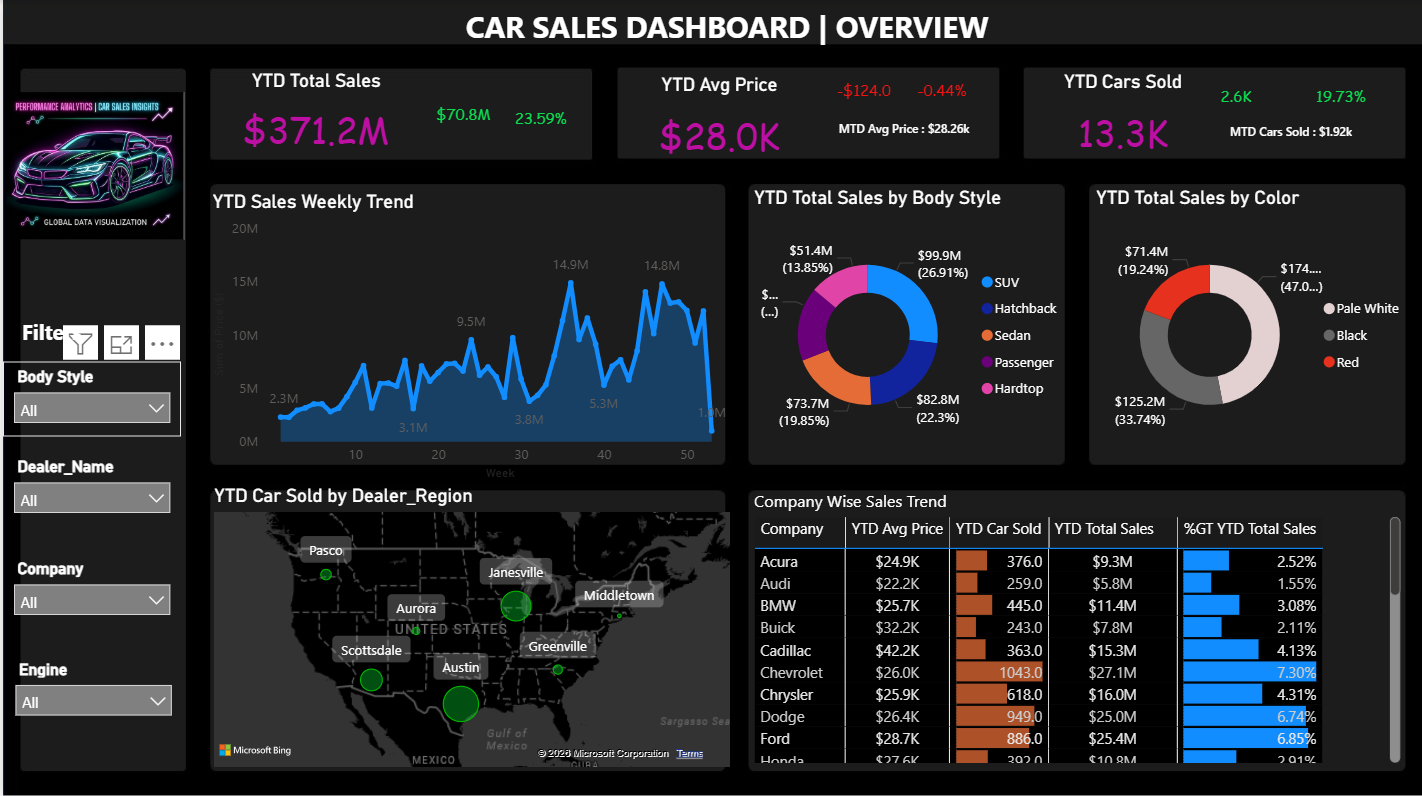

The dashboard page shown, as its layout file describes it:
{"tool":"powerbi","page":{"name":"Overview","canvas":[1280,720],"ordinal":0},"visuals":[{"type":"cardVisual","title":"YTD Total Sales","fields":{"Data":["car_data.YTD Total Sales"]},"box":[183.2,62.1,196.8,87.8],"z":0},{"type":"cardVisual","fields":{"Data":["car_data.Sales Diff"]},"box":[357.4,68.1,116.6,68.1],"z":1000},{"type":"cardVisual","fields":{"Data":["car_data.YOY Sales Growth"]},"box":[428.5,62.1,112.1,86.3],"z":2000},{"type":"cardVisual","title":"YTD Avg Price","fields":{"Data":["car_data.YTD Avg Price"]},"box":[543.6,66.6,204.4,89.3],"z":3000},{"type":"cardVisual","fields":{"Data":["car_data.AVG Price Diff"]},"box":[717.7,45.4,116.6,68.1],"z":4000},{"type":"cardVisual","fields":{"Data":["car_data.YOY Avg Price Growth"]},"box":[787.4,45.4,116.6,68.1],"z":5000},{"type":"cardVisual","fields":{"Data":["car_data.MTD Avg Price KPI"]},"box":[719.2,84.8,186.2,59.1],"z":6000},{"type":"cardVisual","title":"YTD Cars Sold ","fields":{"Data":["car_data.YTD Car Sold"]},"box":[907,63.6,204.4,89.3],"z":7000},{"type":"cardVisual","fields":{"Data":["car_data.Cars Sold Diff"]},"box":[1052.4,51.5,116.6,68.1],"z":8000},{"type":"cardVisual","fields":{"Data":["car_data.YOY Car Sold Growth"]},"box":[1147.8,51.5,116.6,68.1],"z":9000},{"type":"cardVisual","fields":{"Data":["car_data.MTD Cars Sold KPI"]},"box":[1067.5,87.8,186.2,59.1],"z":10000},{"type":"areaChart","title":"YTD Sales Weekly Trend","fields":{"Category":["Date Table.Week"],"Y":["Sum(car_data.Price ($))"]},"box":[183.2,171.1,477,265],"z":11000},{"type":"donutChart","fields":{"Category":["car_data.Body Style"],"Y":["car_data.YTD Total Sales"]},"box":[672.3,168.1,292.2,248.3],"z":12000},{"type":"donutChart","fields":{"Y":["car_data.YTD Total Sales"],"Category":["car_data.Color"]},"box":[979.7,168.1,292.2,248.3],"z":13000},{"type":"map","fields":{"Category":["car_data.Dealer_Region"],"Size":["car_data.YTD Car Sold"]},"box":[184.7,436.1,475.5,258.9],"z":14000},{"type":"tableEx","title":"Company Wise Sales Trend ","fields":{"Values":["car_data.Company","car_data.YTD Avg Price","car_data.YTD Car Sold","car_data.YTD Total Sales1","car_data.YTD Total Sales"]},"box":[672.3,440.6,592.1,251.4],"z":15000},{"type":"textbox","box":[392.2,0,520.9,54.5],"z":16000},{"type":"slicer","fields":{"Values":["car_data.Body Style"]},"box":[0,325.6,160.5,68.1],"z":17000},{"type":"slicer","fields":{"Values":["car_data.Dealer_Name"]},"box":[0,407.3,160.5,68.1],"z":18000},{"type":"slicer","fields":{"Values":["car_data.Company"]},"box":[0,498.2,160.5,68.1],"z":19000},{"type":"slicer","fields":{"Values":["car_data.Engine"]},"box":[1.5,589,160.5,68.1],"z":20000},{"type":"textbox","box":[12.1,281.6,160.5,45.4],"z":21000},{"type":"image","box":[3,74.2,160.5,149.9],"z":22000}]}

Visuals, with their boxes in screenshot pixels (x1, y1, x2, y2), scaled from the page's 1280x720 canvas onto the 1422x796 screenshot:
"YTD Total Sales" cardVisual: [204,69,422,166]
cardVisual - car_data.Sales Diff: [397,75,527,151]
cardVisual - car_data.YOY Sales Growth: [476,69,601,164]
"YTD Avg Price" cardVisual: [604,74,831,172]
cardVisual - car_data.AVG Price Diff: [797,50,927,125]
cardVisual - car_data.YOY Avg Price Growth: [875,50,1004,125]
cardVisual - car_data.MTD Avg Price KPI: [799,94,1006,159]
"YTD Cars Sold " cardVisual: [1008,70,1235,169]
cardVisual - car_data.Cars Sold Diff: [1169,57,1299,132]
cardVisual - car_data.YOY Car Sold Growth: [1275,57,1405,132]
cardVisual - car_data.MTD Cars Sold KPI: [1186,97,1393,162]
"YTD Sales Weekly Trend" areaChart: [204,189,733,482]
donutChart - car_data.Body Style x car_data.YTD Total Sales: [747,186,1071,460]
donutChart - car_data.YTD Total Sales x car_data.Color: [1088,186,1413,460]
map - car_data.Dealer_Region x car_data.YTD Car Sold: [205,482,733,768]
"Company Wise Sales Trend " tableEx: [747,487,1405,765]
textbox: [436,0,1014,60]
slicer - car_data.Body Style: [0,360,178,435]
slicer - car_data.Dealer_Name: [0,450,178,526]
slicer - car_data.Company: [0,551,178,626]
slicer - car_data.Engine: [2,651,180,726]
textbox: [13,311,192,362]
image: [3,82,182,248]
